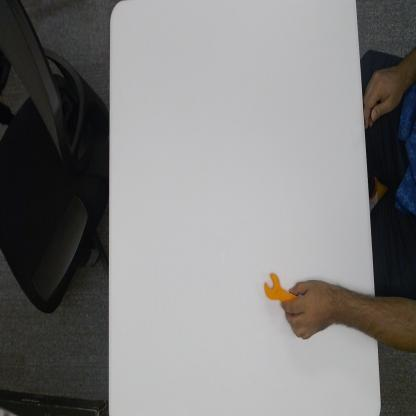Hand: (284, 273, 348, 340)
Screwdriver: (260, 269, 298, 304)
